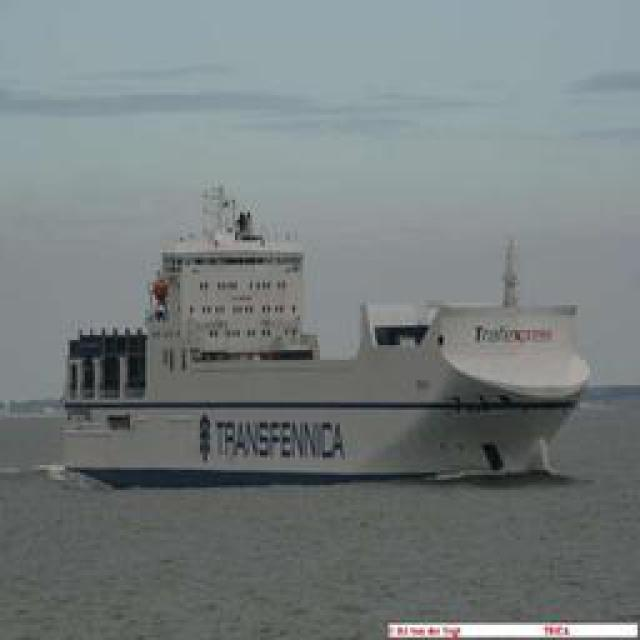Ship: (45, 184, 590, 484)
